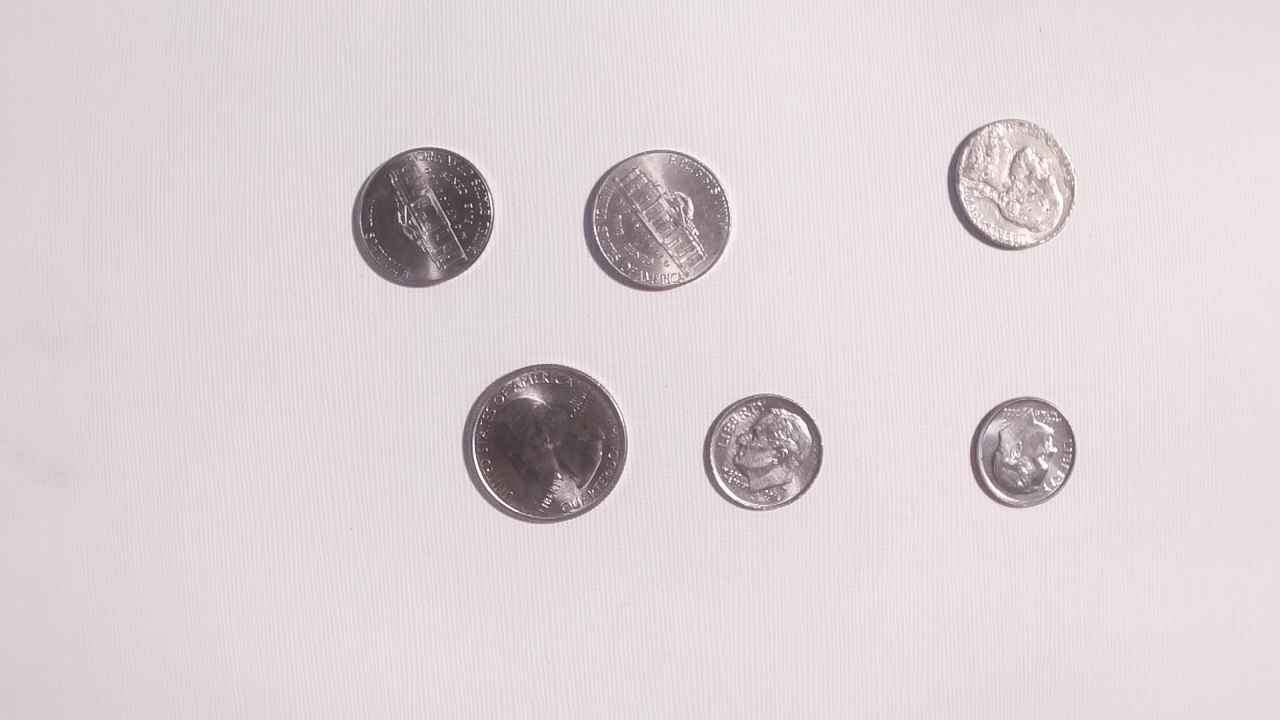dime: (696, 390, 830, 516), (960, 392, 1084, 516)
nickel: (578, 146, 740, 294), (346, 145, 506, 293), (938, 114, 1082, 256)
quarter: (460, 360, 632, 524)
